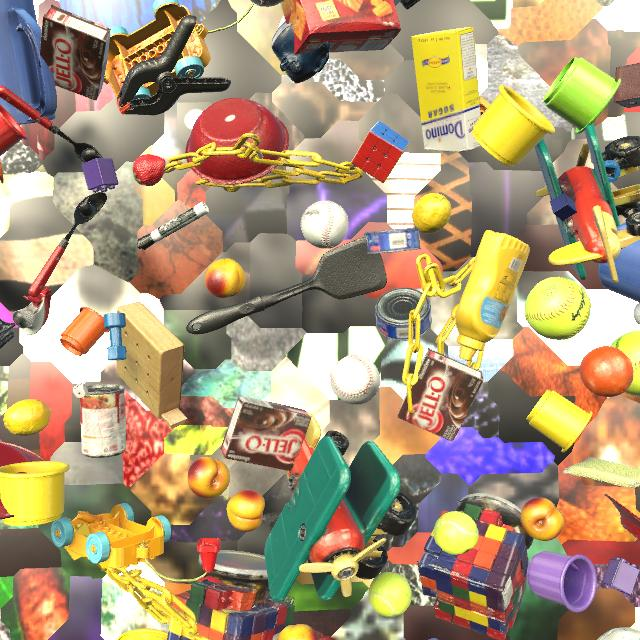ycb_003_cracker_box: (281, 0, 401, 55), (393, 0, 401, 6)
ycb_004_sugar_box: (411, 27, 482, 152)
ycb_005_tomato_soup_can: (80, 384, 126, 458)
ycb_006_mustard_bottle: (455, 230, 530, 361)
ycb_007_tuna_fish_can: (375, 288, 432, 341), (364, 227, 421, 254)
ycb_008_pudding_box: (397, 348, 484, 442), (39, 5, 111, 101), (220, 396, 312, 471)
ycb_012_strawberry: (132, 154, 166, 186), (197, 576, 222, 583)
ycb_014_lemon: (4, 399, 52, 436), (412, 193, 451, 234)
ycb_015_peach: (520, 497, 564, 541), (187, 457, 230, 498), (204, 258, 246, 298), (227, 490, 265, 532), (277, 624, 319, 640)
ycb_017_orange: (580, 346, 634, 397)
